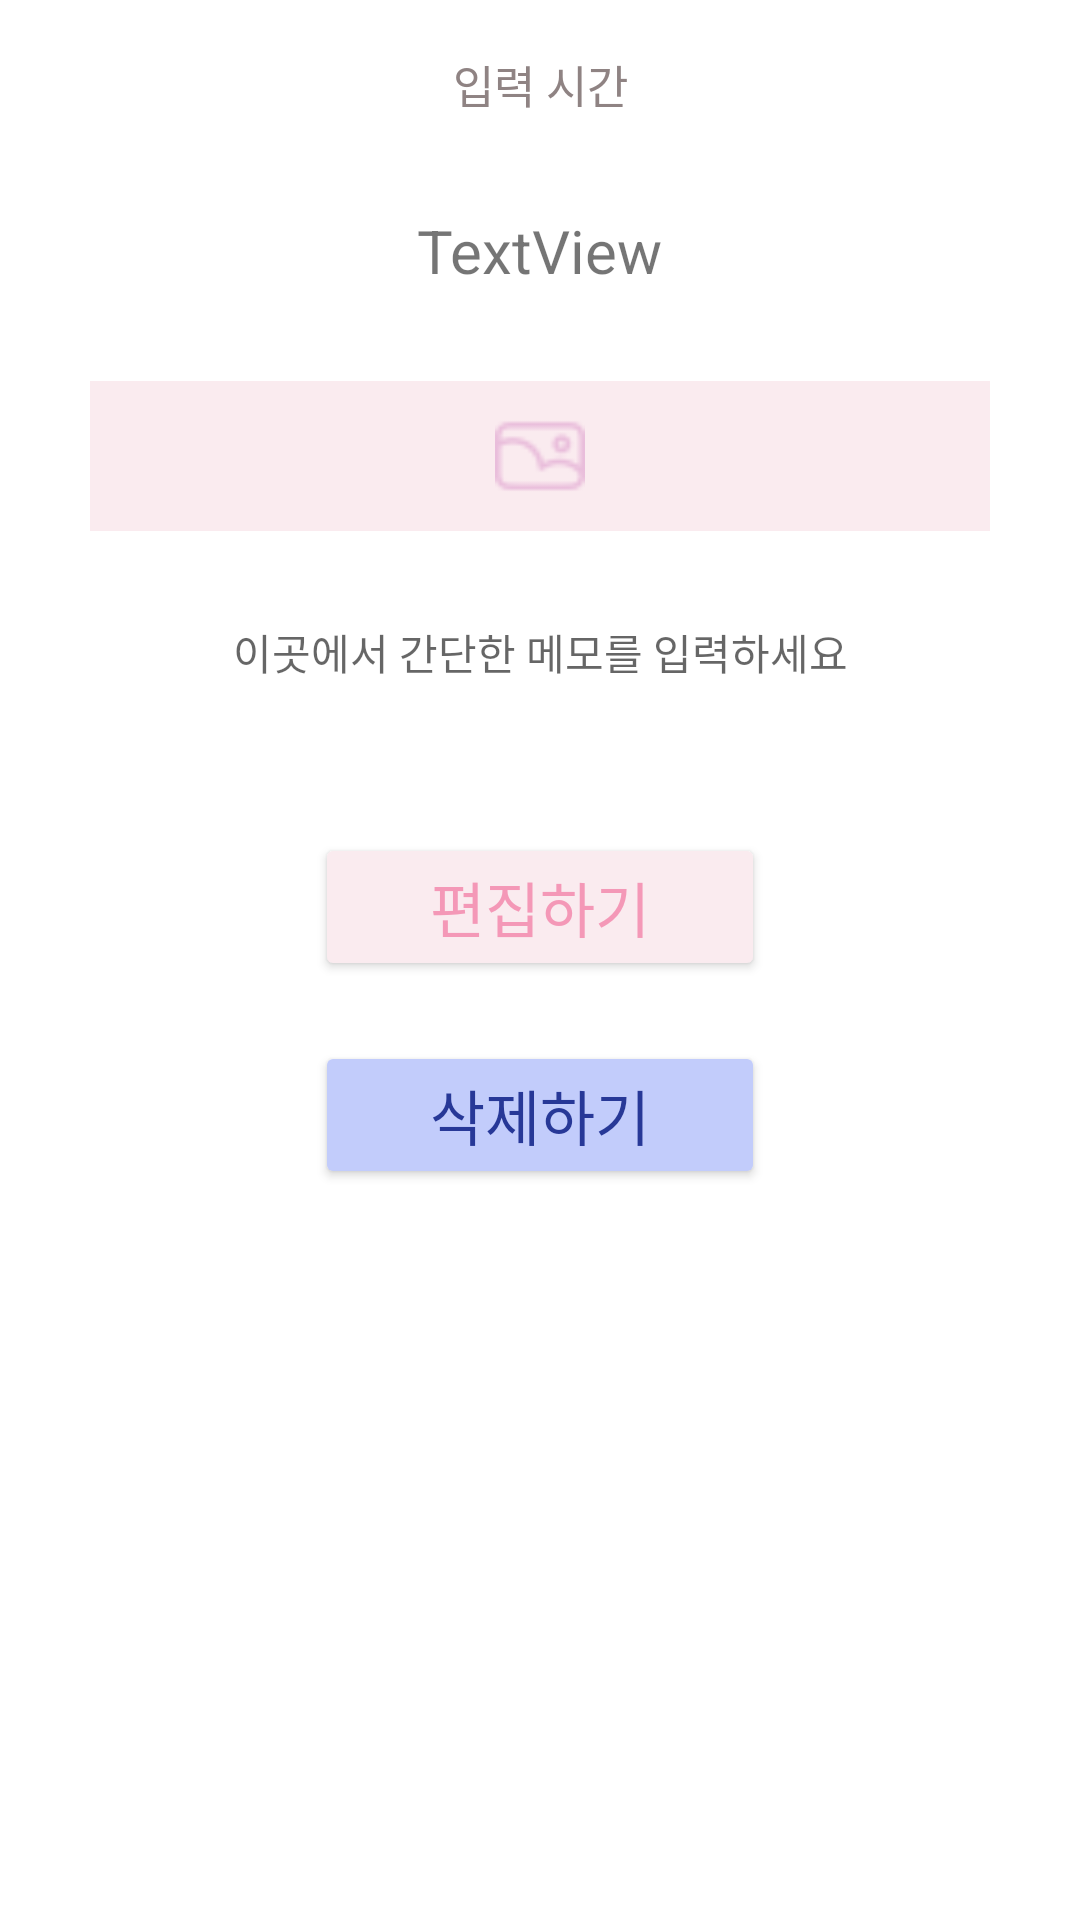

Icons on this 1080*1920 Android screen, each with its box as (x1, y1, x2, y2):
edit picture: (495, 421, 585, 491)
